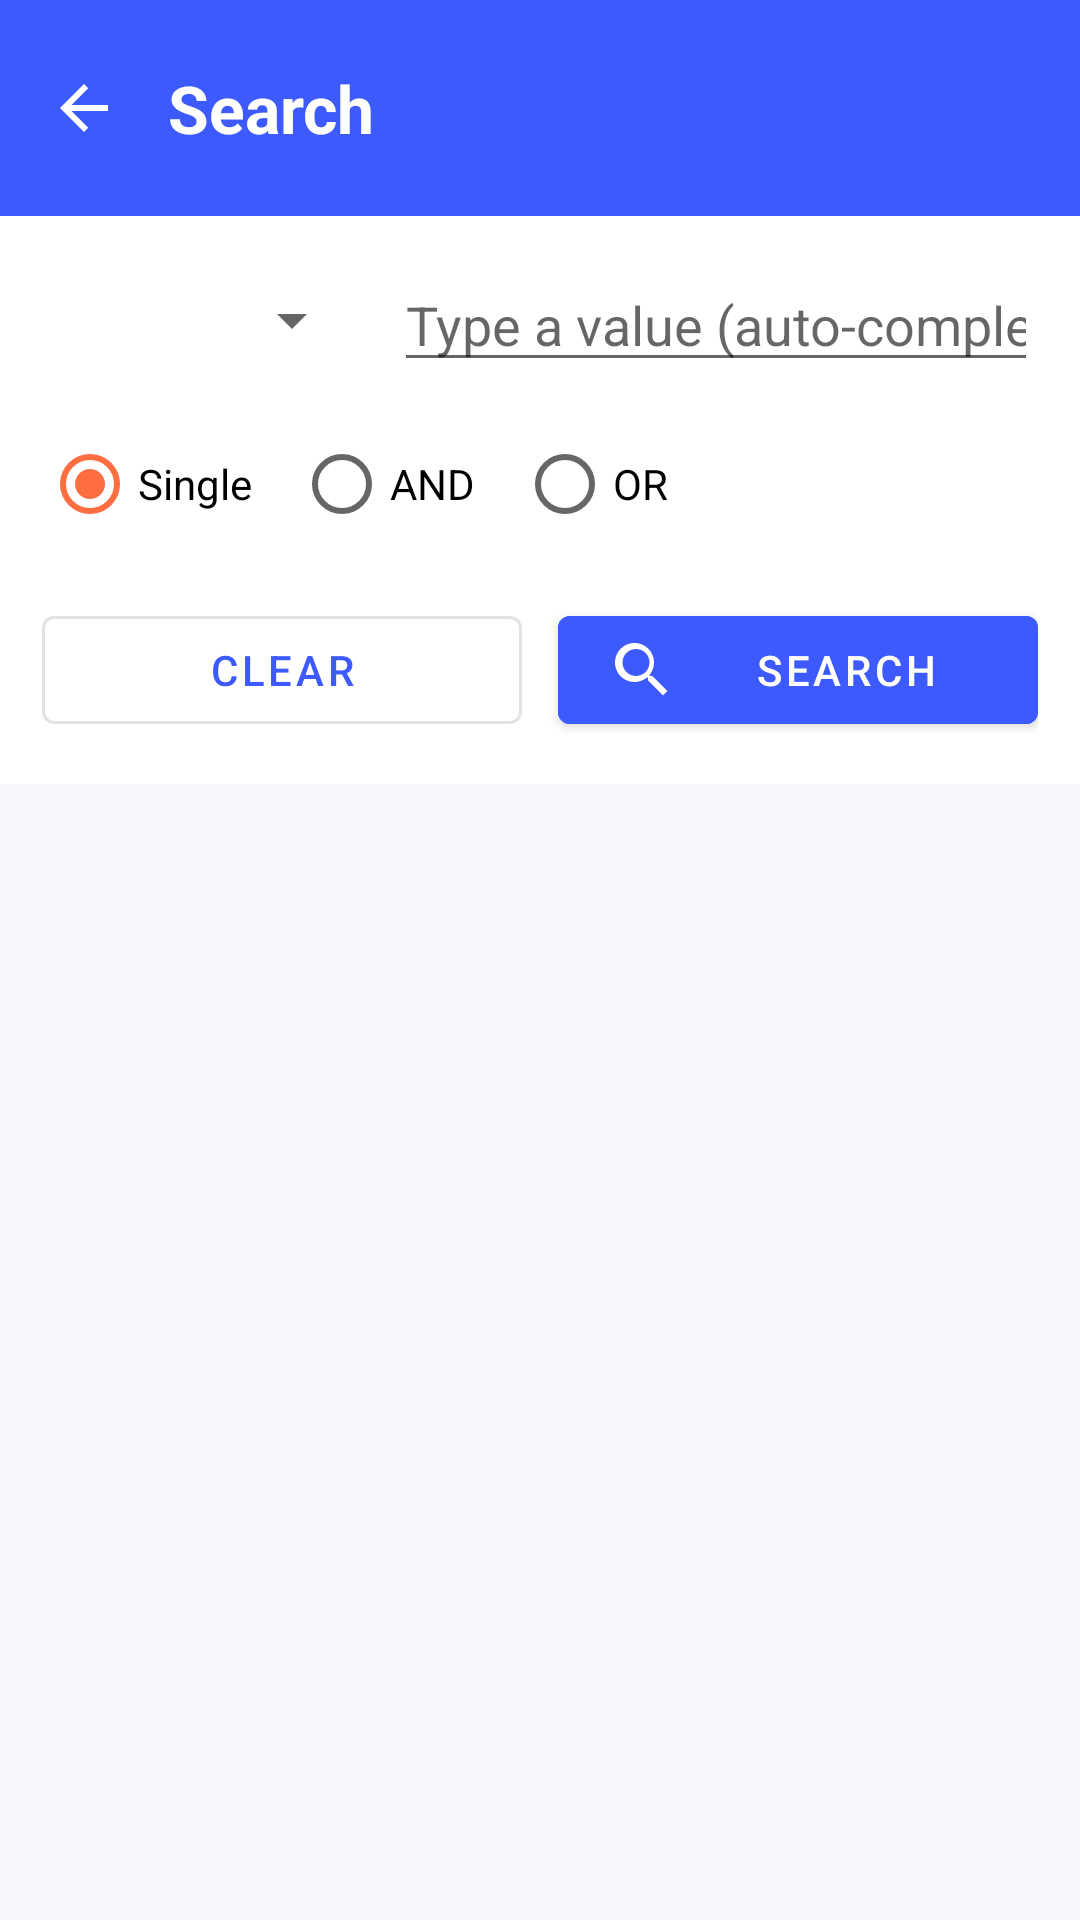

Named icons in this screenshot (1080*1920) and their centers, [x,y]:
arrow back: [84,108]
